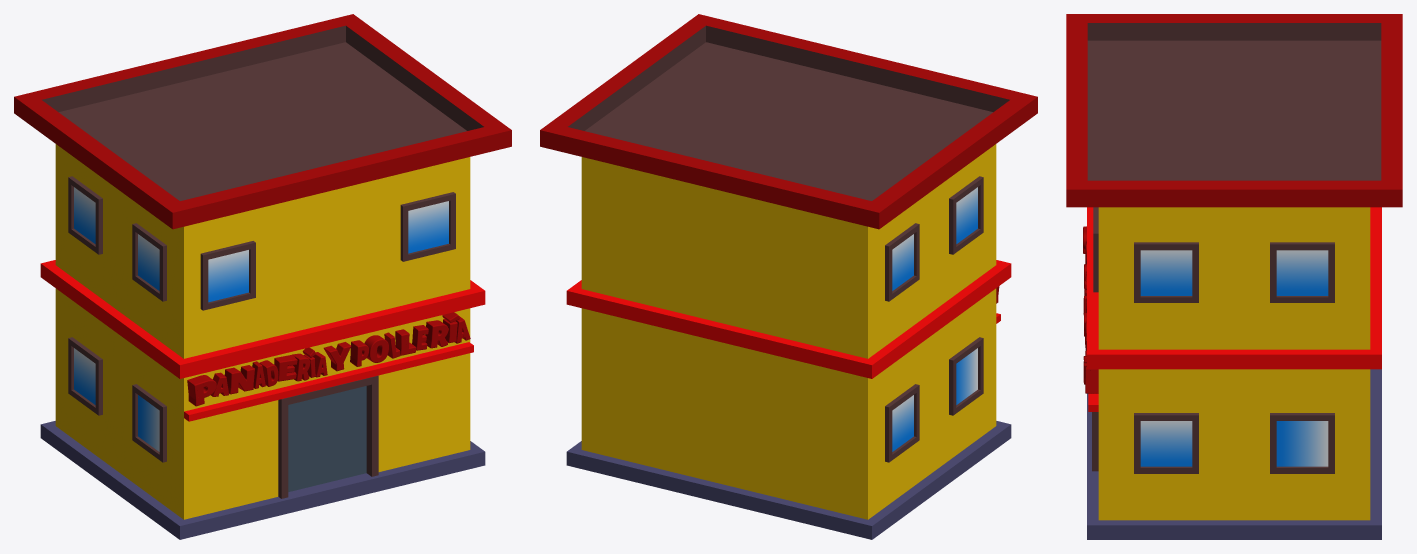
The model's file is PanYpollo.fbx.
3 renders of one model, left to right at view 1: azimuth 30°, elevation 25°; view 2: azimuth 150°, elevation 25°; view 3: azimuth 270°, elevation 25°, orthographic. The views are drawn at different scales.
Parts seen in each view (by area): view 1: edificio1; view 2: edificio1; view 3: edificio1.
Boxes of the visible parts, bbox=[...] form: edificio1: bbox=[14, 14, 511, 539]; edificio1: bbox=[540, 14, 1037, 539]; edificio1: bbox=[1066, 14, 1402, 539].
Size of the model in its own units: 642 by 612 by 520.
Materials: 1 (1 with a texture image).
